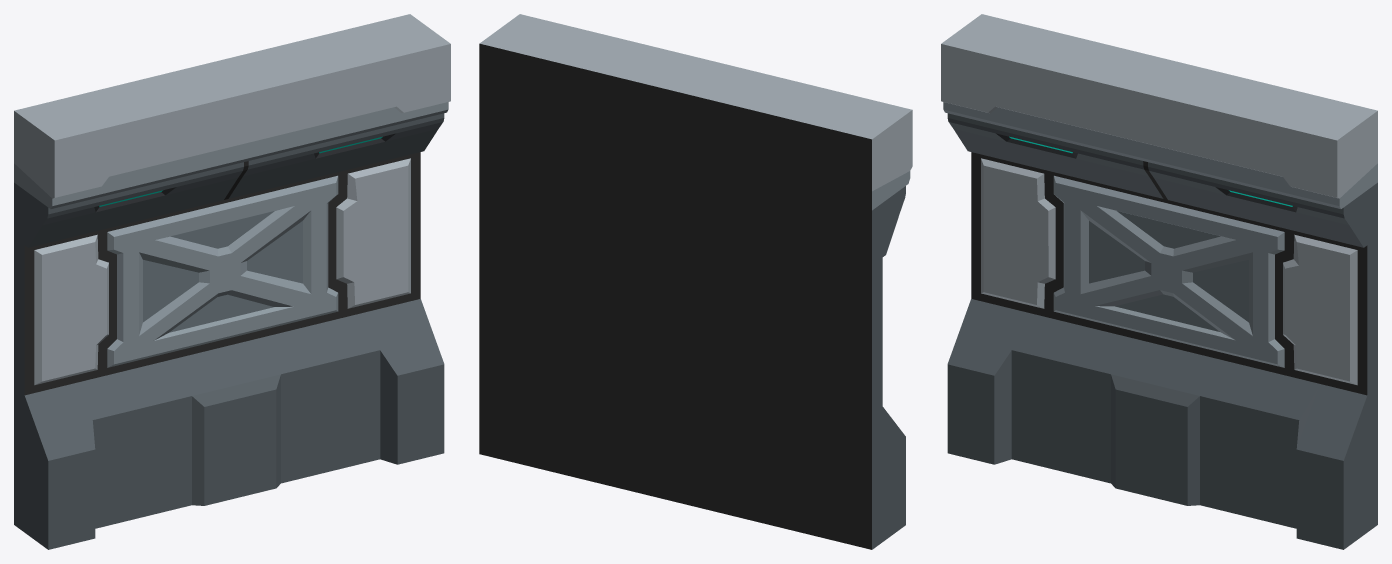
The model's file is SM_Bld_Wall_01.fbx.
3 renders of one model, left to right at view 1: azimuth 30°, elevation 25°; view 2: azimuth 150°, elevation 25°; view 3: azimuth 330°, elevation 25°, orthographic.
Visible parts, largest first — view 1: SM_Bld_Wall_01; view 2: SM_Bld_Wall_01; view 3: SM_Bld_Wall_01.
Part boxes in pixels (x1,y1,x2,y2): SM_Bld_Wall_01: (14,14,450,549); SM_Bld_Wall_01: (479,14,912,549); SM_Bld_Wall_01: (941,14,1377,549).
Bounding box in the file's own units: 500 × 500 × 89.18.
1 material, 1 textured.
